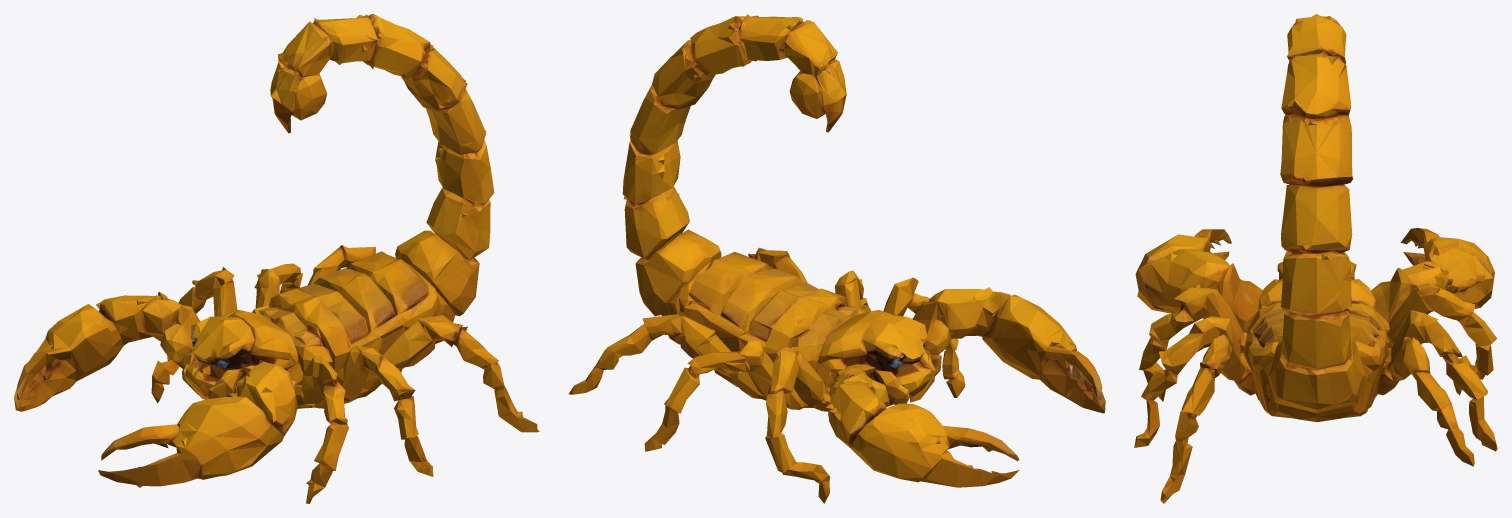
File: scorpion.glb
3 views of the same model, side by side, from view 1: azimuth 30°, elevation 25°; view 2: azimuth 150°, elevation 25°; view 3: azimuth 270°, elevation 25° (orthographic). The views are drawn at different scales.
Parts seen in each view (by area): view 1: tripo_node_562a47e3-449f-4717-9a4e-9438253541dd; view 2: tripo_node_562a47e3-449f-4717-9a4e-9438253541dd; view 3: tripo_node_562a47e3-449f-4717-9a4e-9438253541dd.
Boxes of the visible parts, box(x1,y1,x2,y2) form: tripo_node_562a47e3-449f-4717-9a4e-9438253541dd: box(14, 14, 539, 503); tripo_node_562a47e3-449f-4717-9a4e-9438253541dd: box(568, 14, 1105, 503); tripo_node_562a47e3-449f-4717-9a4e-9438253541dd: box(1134, 14, 1497, 503).
Bounding box in the file's own units: 1 × 0.9038 × 0.6924.
Materials: 1 (1 with a texture image).
